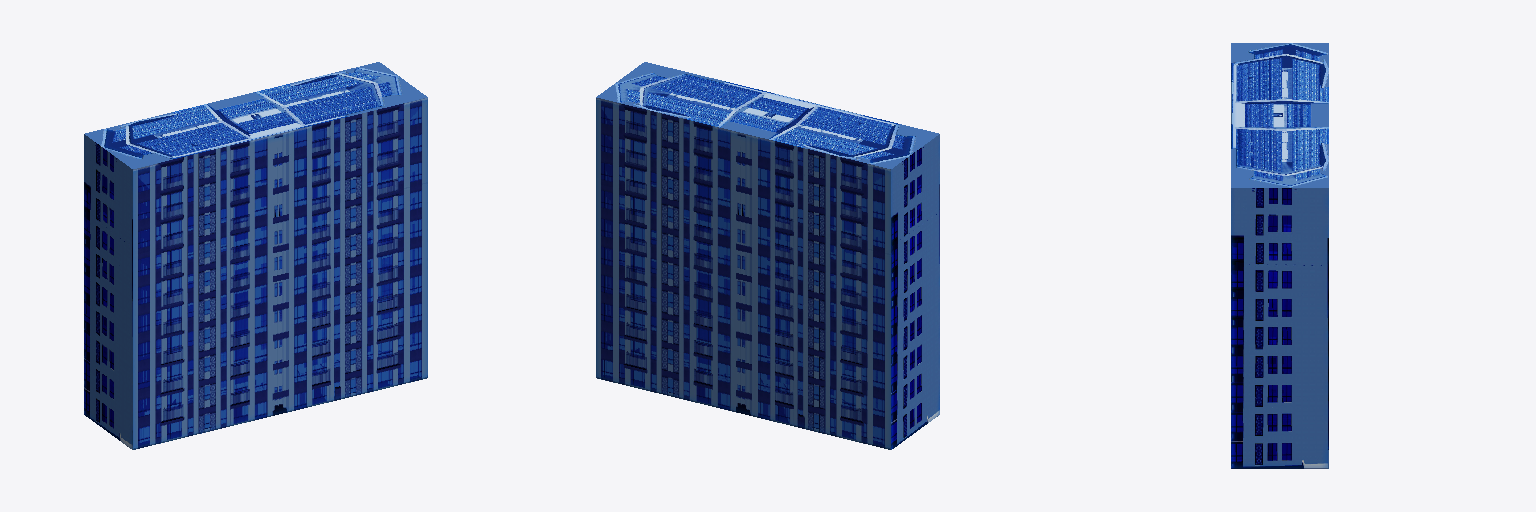
The picture shows the model from 3 angles: view 1: azimuth 30°, elevation 25°; view 2: azimuth 150°, elevation 25°; view 3: azimuth 270°, elevation 25°; orthographic projection.
Visible parts, largest first — view 1: Box001; view 2: Box001; view 3: Box001.
Part boxes in pixels (x1,y1,x2,y2): Box001: (84, 62, 427, 449); Box001: (596, 62, 939, 449); Box001: (1231, 43, 1328, 468).
Bounding box in the file's own units: 44.8 × 40.7 × 12.8.
1 materials, 1 textured.